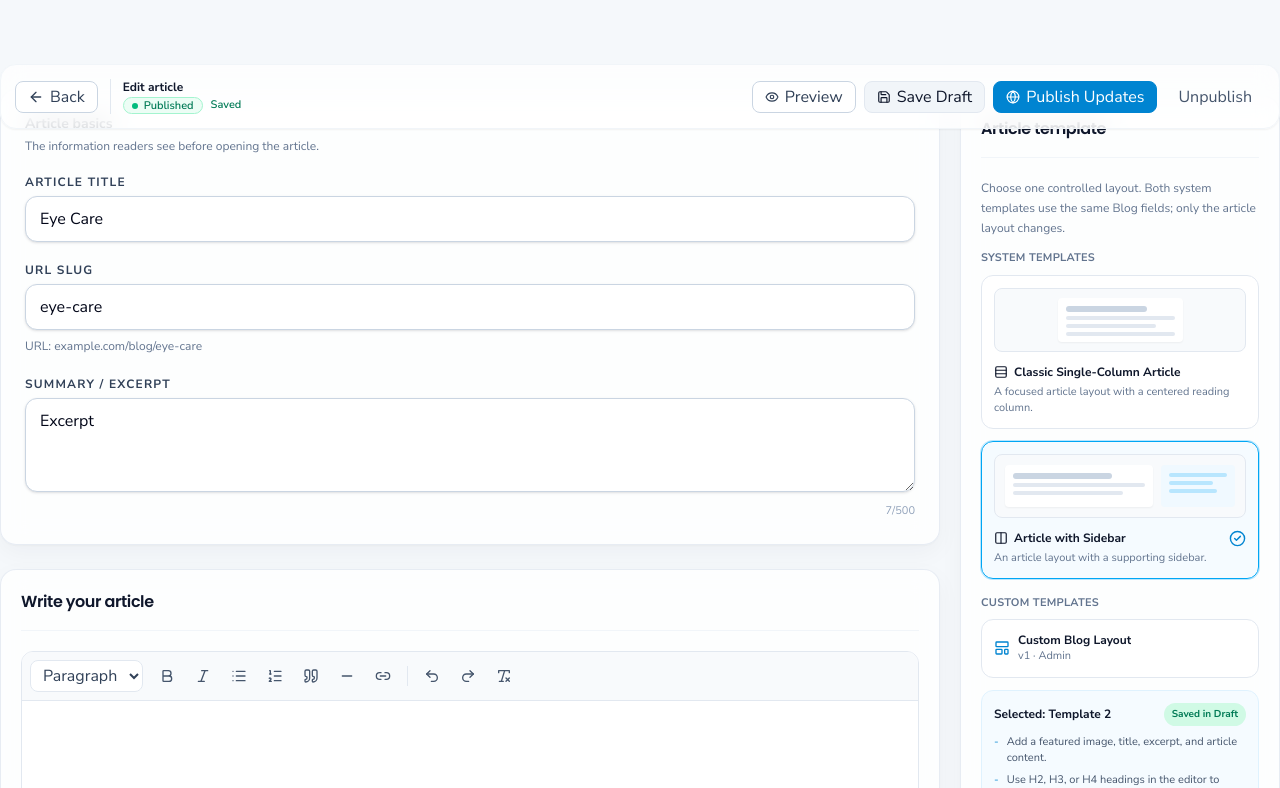
Test: BlogForm › preserves the Draft template and warns when it differs from Published
Click the radio button labelled "Classic Single-Column Article" at (1120, 352), box [981,274,1259,428]
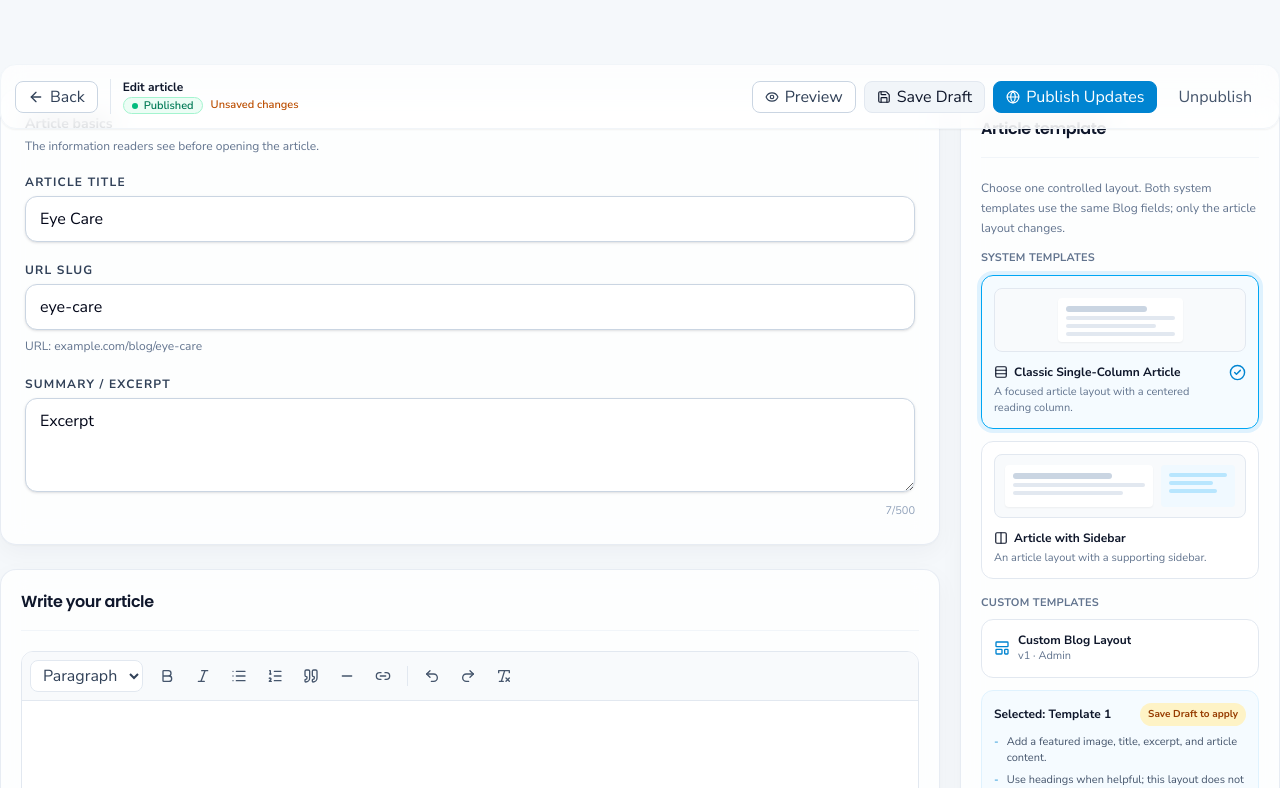
Check: the text "Unsaved changes" is shown, box [211,97,299,114]
